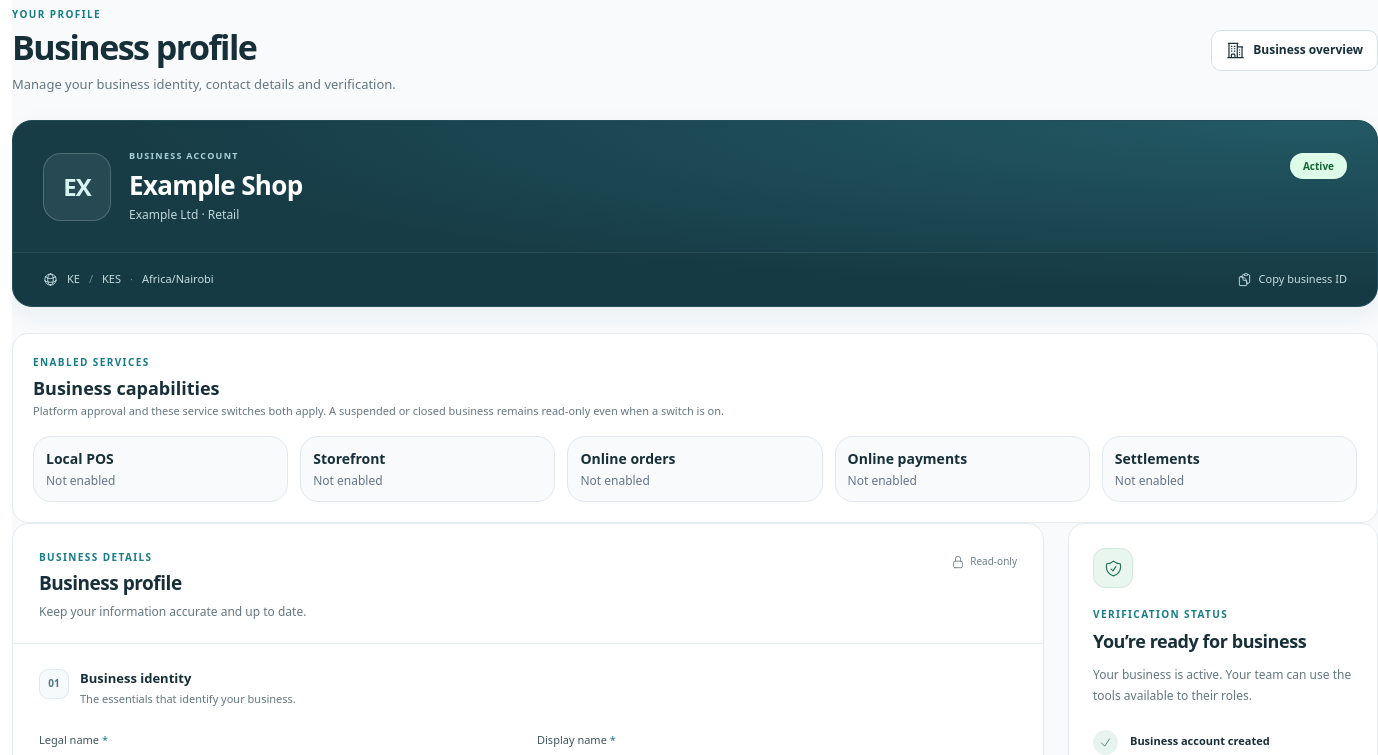
Scenario: business screens › keeps the business ID available and confirms copying
Click the button "Copy business ID".
click(1292, 279)  # box [1236,266,1347,293]
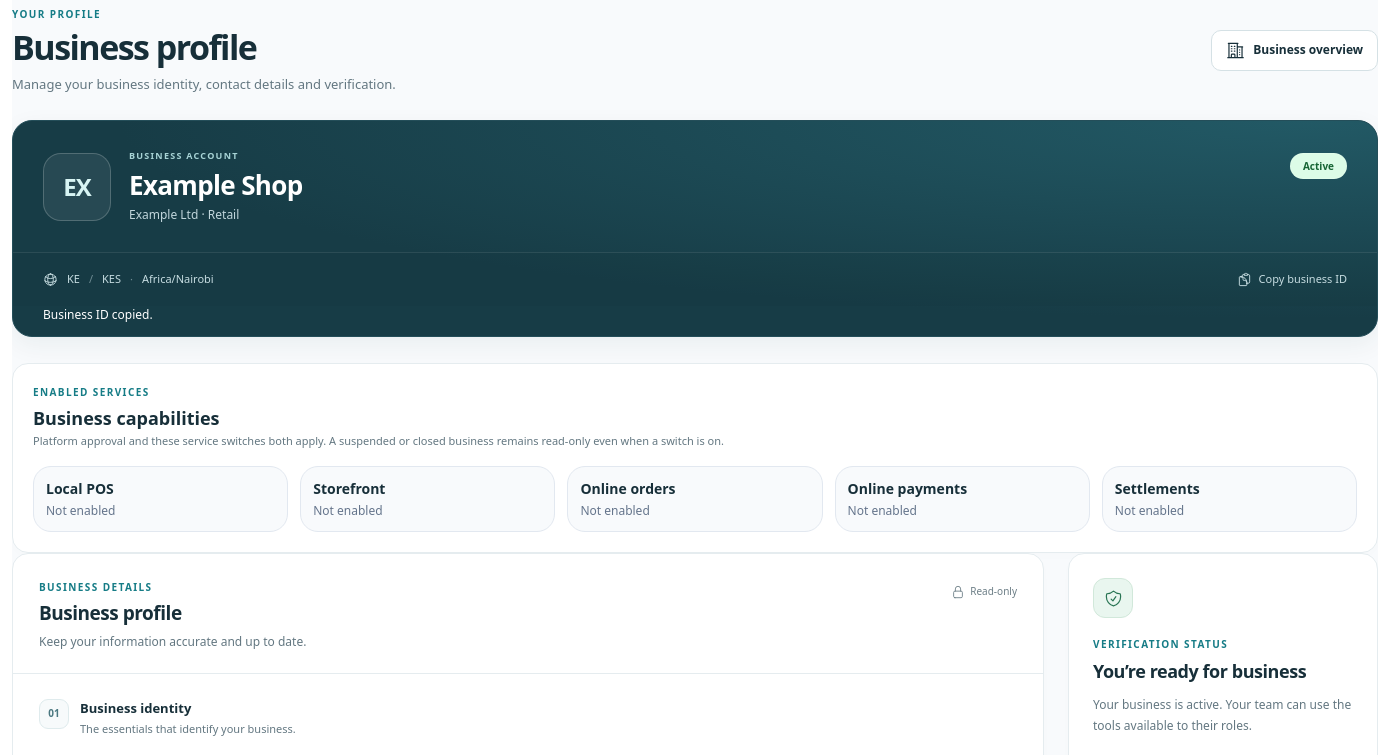
Now the text "Business ID copied." is shown, box [43,306,153,323]
